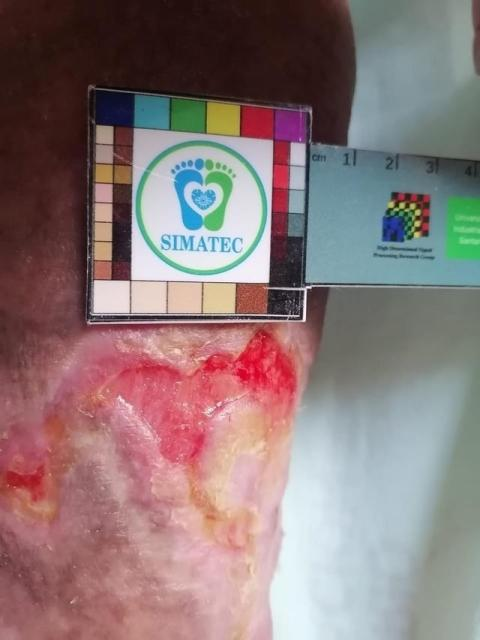wound: (0, 327, 303, 567)
